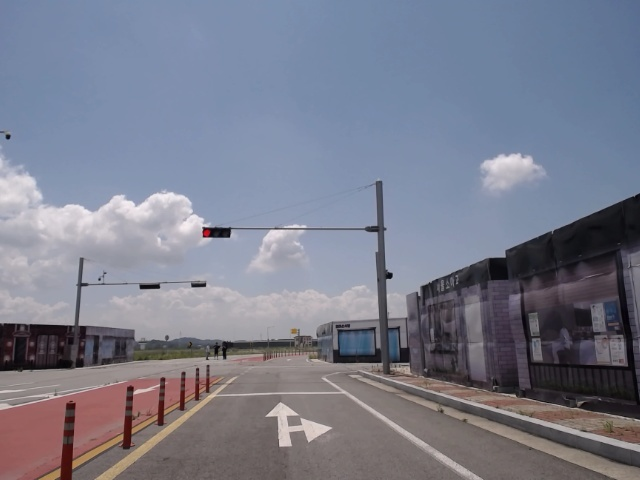red_3: (200, 227, 231, 239)
